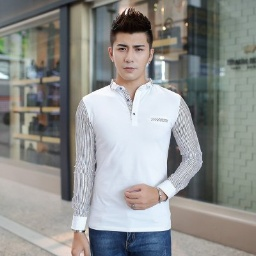face: (108, 8, 154, 82)
